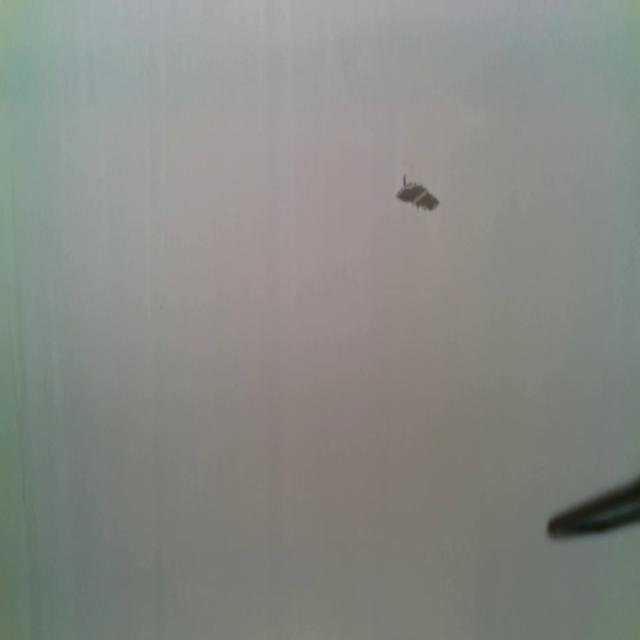color bleeding: (0, 2, 640, 112)
hole: (396, 177, 440, 216)
